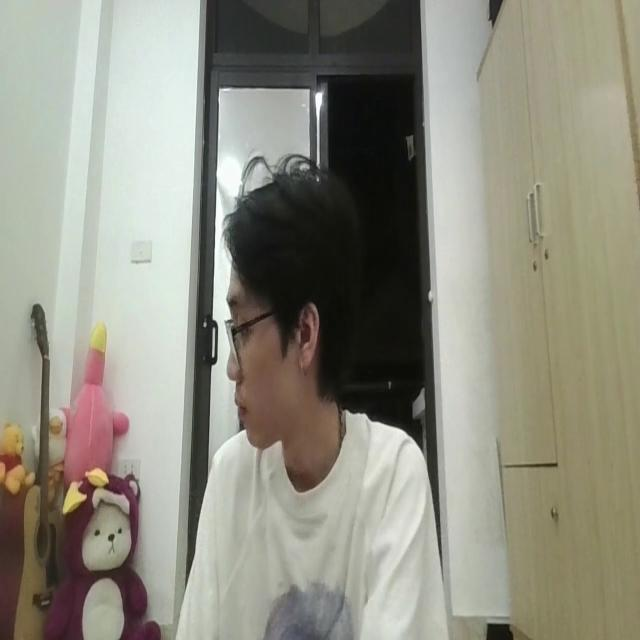student: (166, 153, 447, 640)
